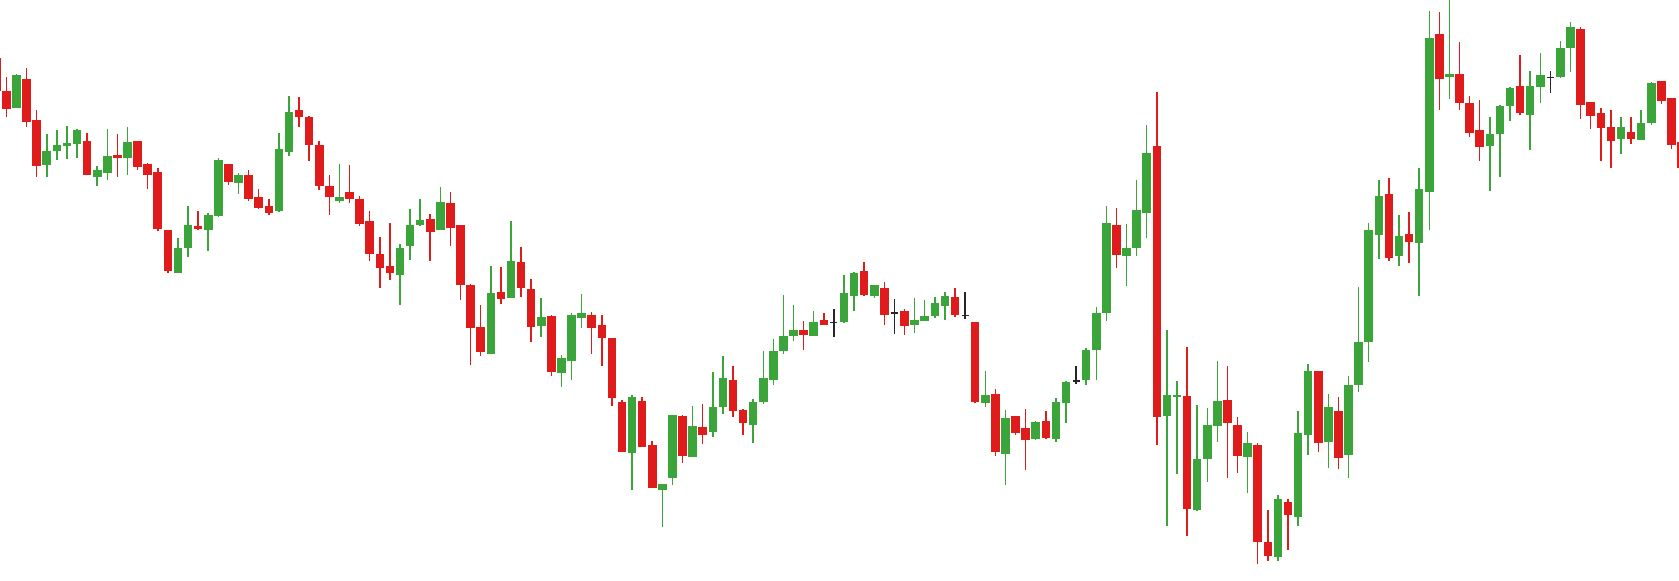buy: (996, 292, 1174, 540), (1180, 341, 1285, 569), (463, 263, 568, 393)
